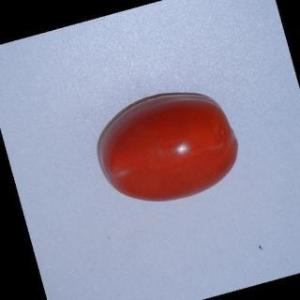tomato: (90, 89, 248, 211)
